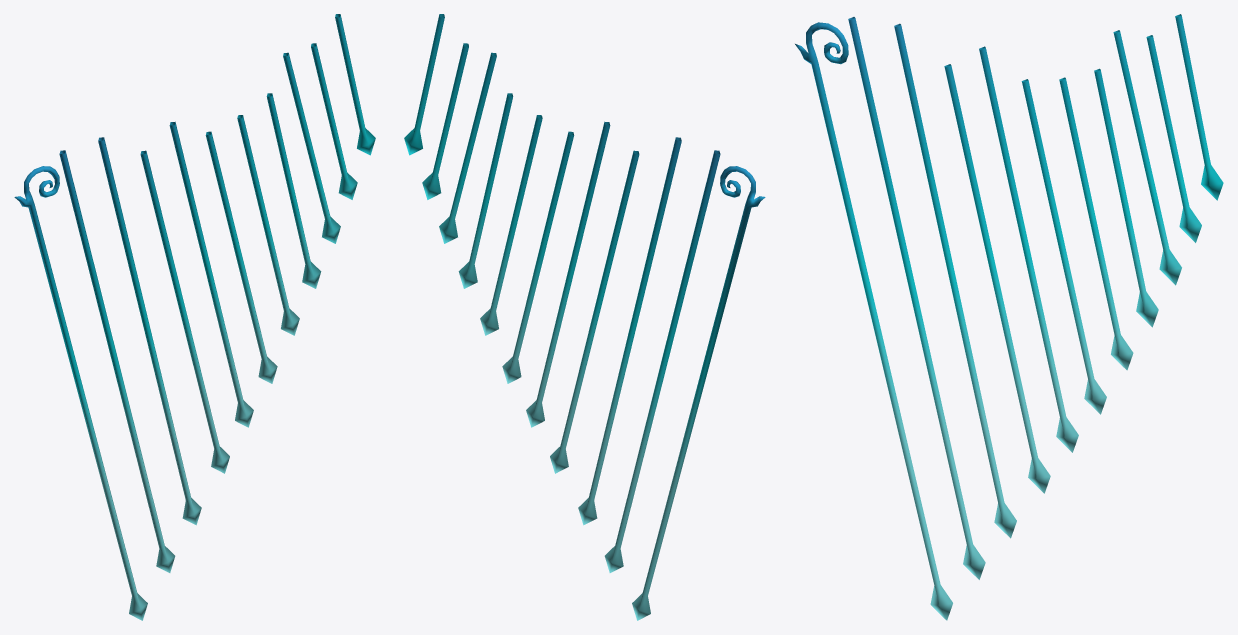
The model's file is Homeworld_Exterior_Common_Decoration_Harp_01_D_Vo.fbx.
3 views of the same model, side by side, from view 1: azimuth 30°, elevation 25°; view 2: azimuth 150°, elevation 25°; view 3: azimuth 330°, elevation 25° (orthographic). The views are drawn at different scales.
Visible parts, largest first — view 1: Homeworld_Exterior_Common_Decoration_Harp_01_D_Vo; view 2: Homeworld_Exterior_Common_Decoration_Harp_01_D_Vo; view 3: Homeworld_Exterior_Common_Decoration_Harp_01_D_Vo.
Part boxes in pixels (<box>): Homeworld_Exterior_Common_Decoration_Harp_01_D_Vo: <box>14,14,375,620</box>; Homeworld_Exterior_Common_Decoration_Harp_01_D_Vo: <box>404,14,765,620</box>; Homeworld_Exterior_Common_Decoration_Harp_01_D_Vo: <box>795,14,1223,620</box>.
Bounding box in the file's own units: 1.09 × 1.61 × 0.0219.
1 material, 1 textured.
